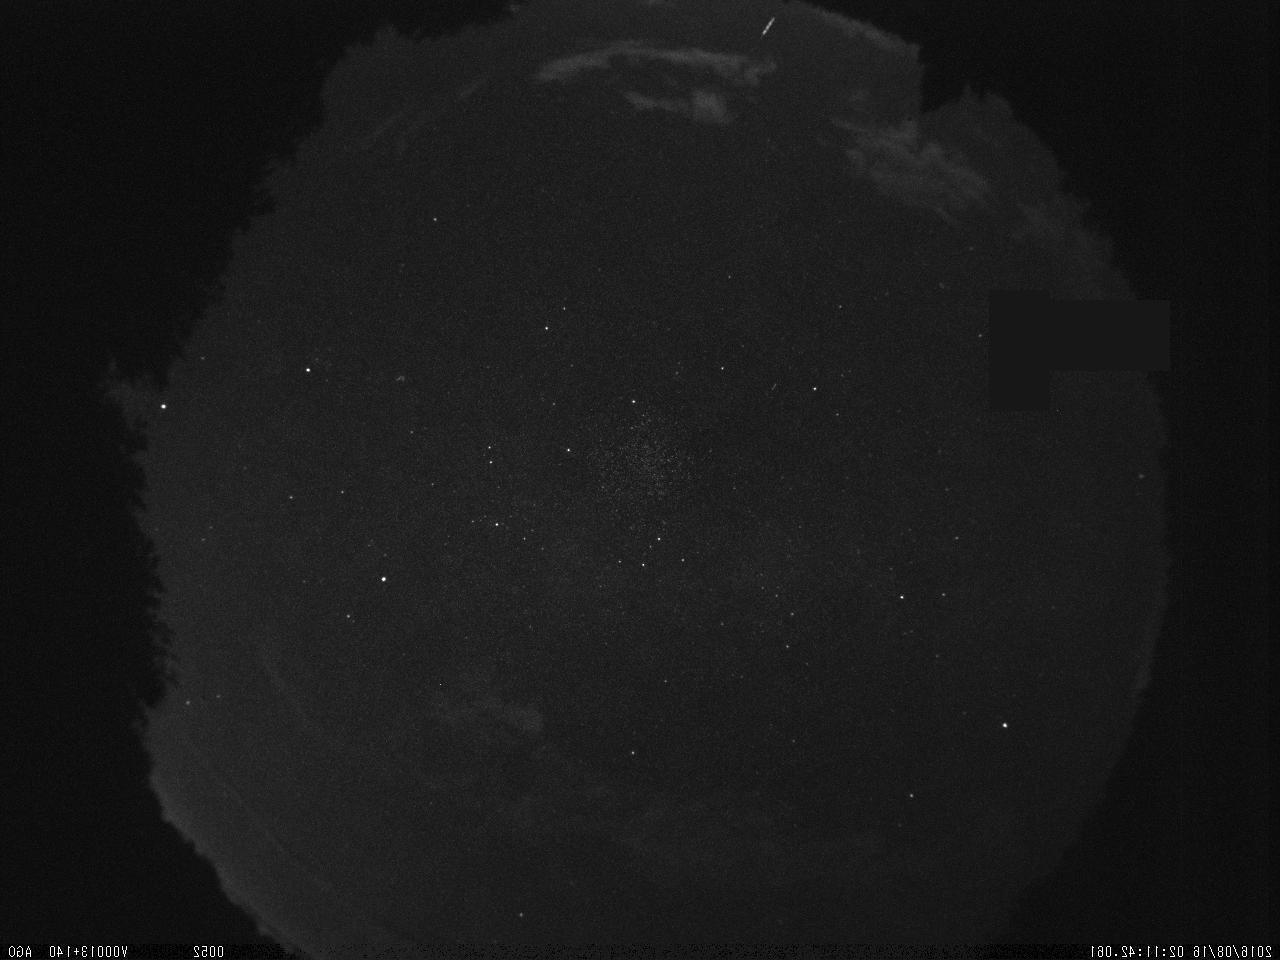meteor: (751, 12, 785, 40)
